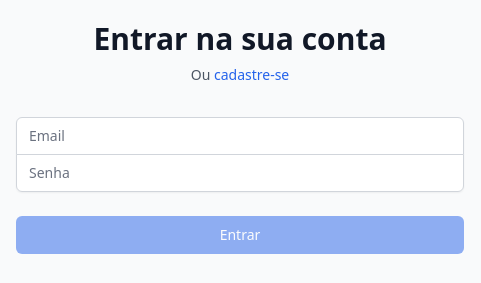
LoginForm Component › Form Validation › should show password validation error
Type "123" into the password field labelled "Senha" at {"x": 240, "y": 172}, box [16,154,464,192]
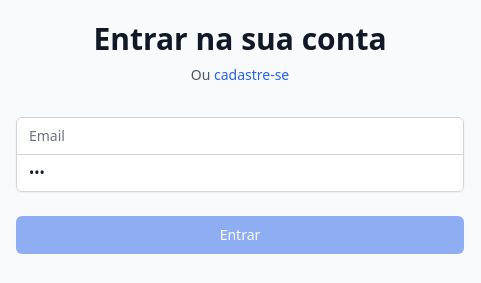
Leave the password field named "Senha", box [16,154,464,192]
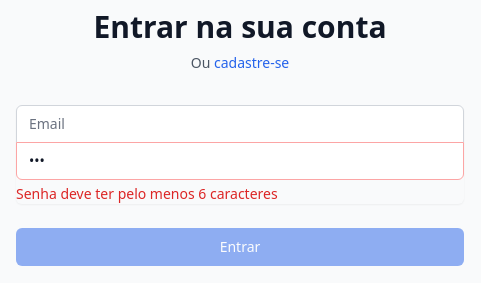
Expected: the text "Senha deve ter pelo menos 6 caracteres" is shown, [16,184,278,202]
